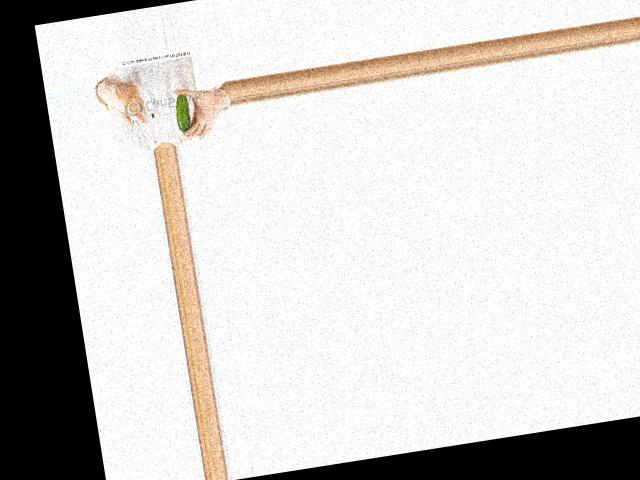cucumber: (174, 92, 193, 132)
